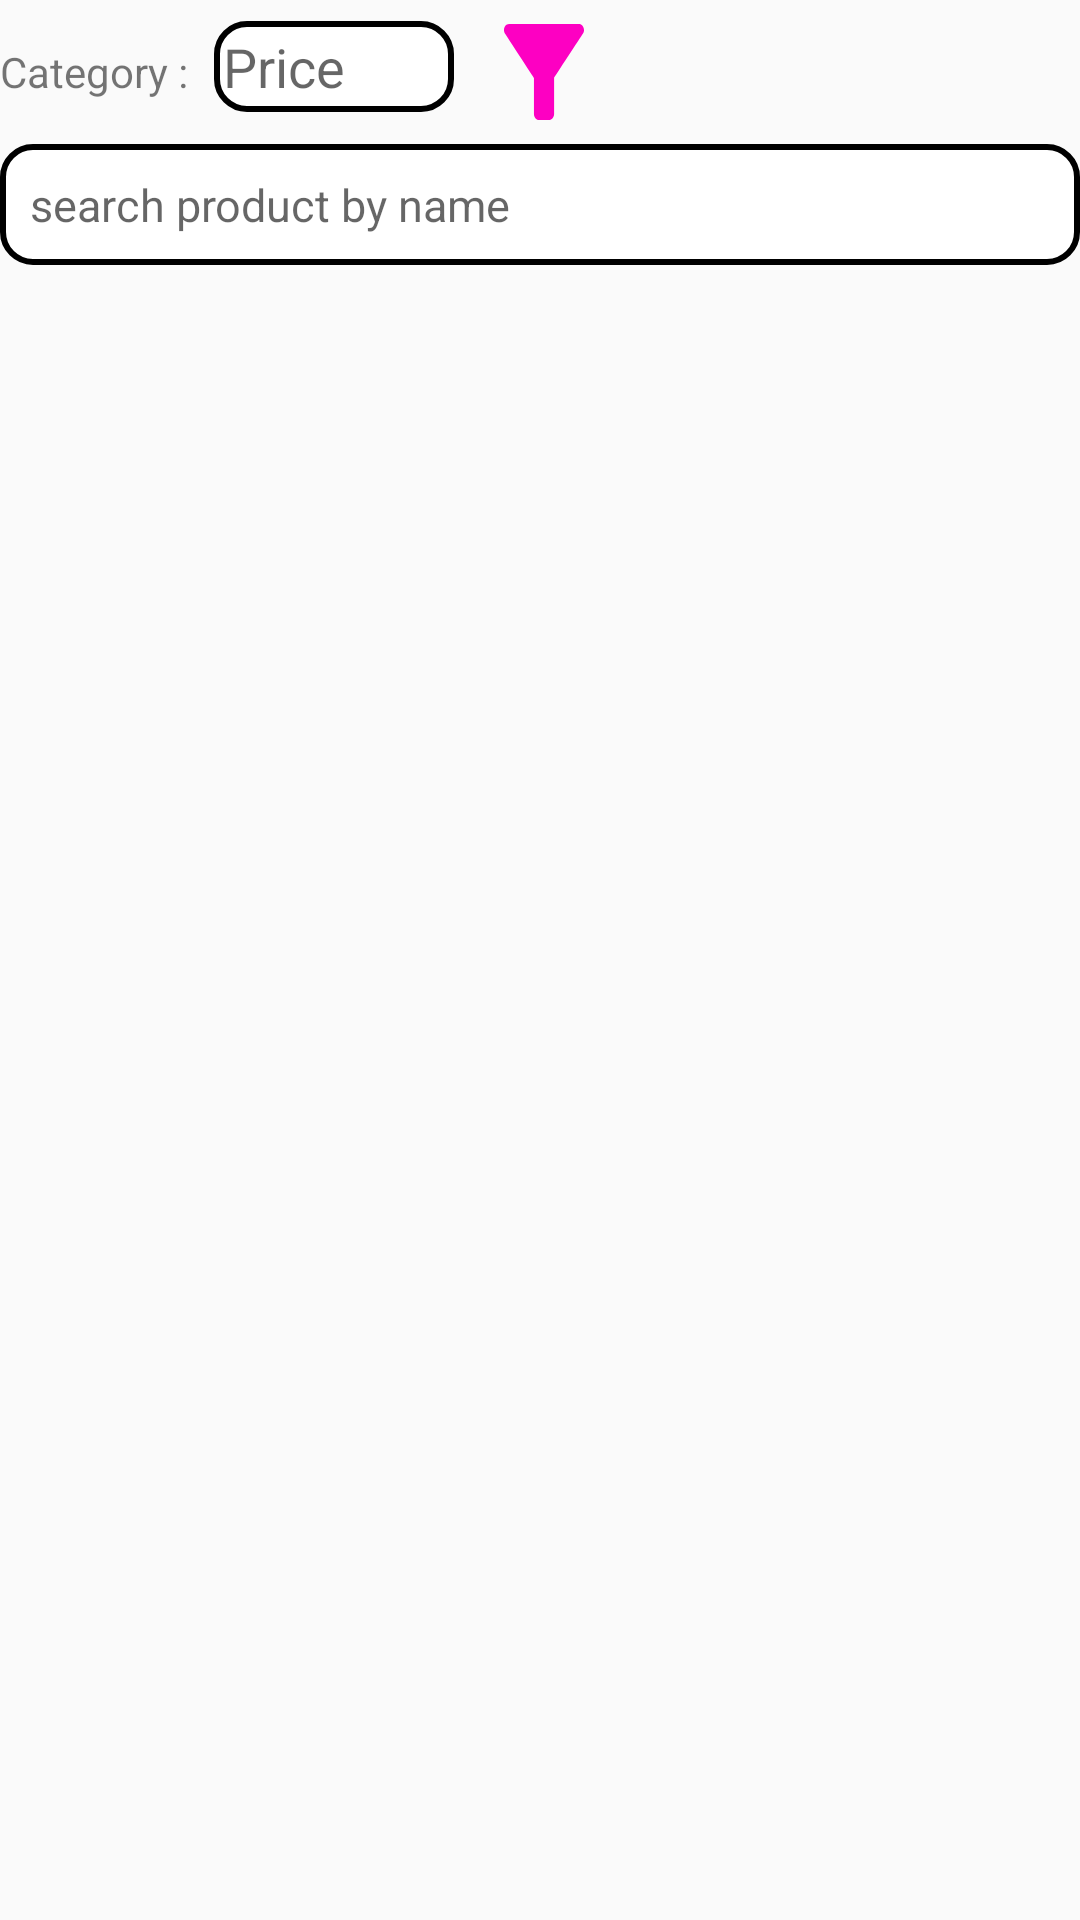

Named icons in this screenshot (1080w x 1920h) and their bounding boxes, (x1, y1, x2, y2):
filter: (504, 24, 584, 120)
